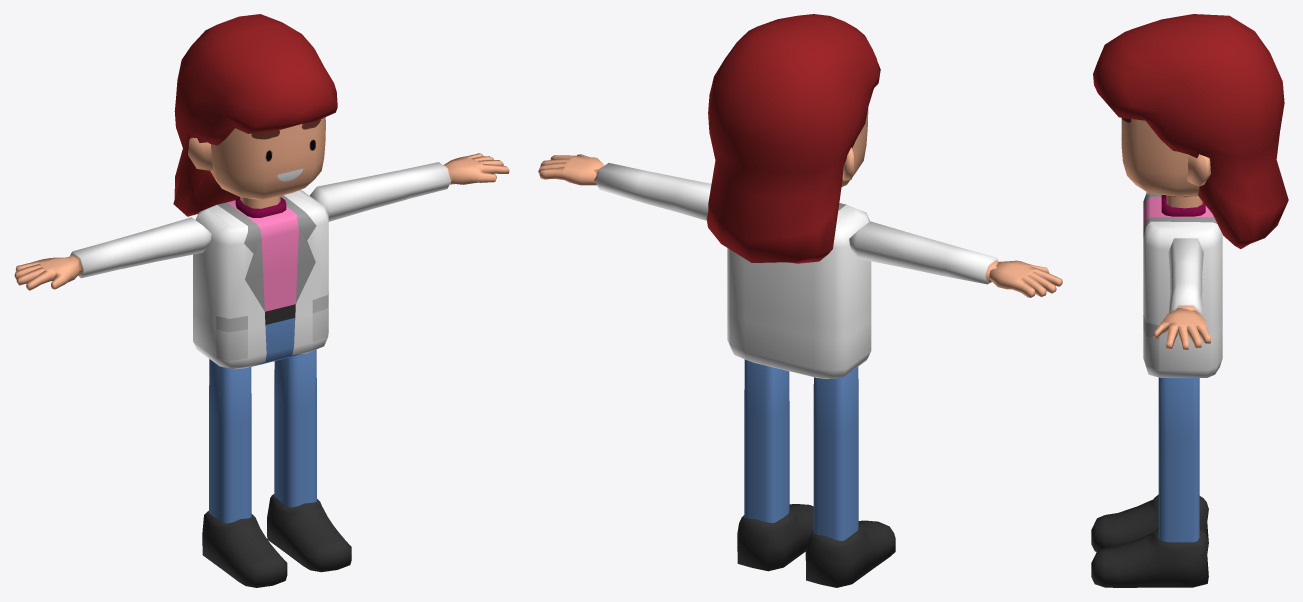
File: NPC_White01_RedHair02.gltf
3 views of the same model, side by side, from view 1: azimuth 30°, elevation 25°; view 2: azimuth 150°, elevation 25°; view 3: azimuth 270°, elevation 25° (orthographic). The views are drawn at different scales.
Parts seen in each view (by area): view 1: NPC_Corpo_White1_RedHair.002; view 2: NPC_Corpo_White1_RedHair.002; view 3: NPC_Corpo_White1_RedHair.002.
Part boxes in pixels (x1=…): NPC_Corpo_White1_RedHair.002: x1=14, y1=14, x2=509, y2=587; NPC_Corpo_White1_RedHair.002: x1=538, y1=14, x2=1062, y2=587; NPC_Corpo_White1_RedHair.002: x1=1091, y1=14, x2=1288, y2=587.
Bounding box in the file's own units: 2.31 × 2.33 × 0.7777.
1 material, 1 textured.
